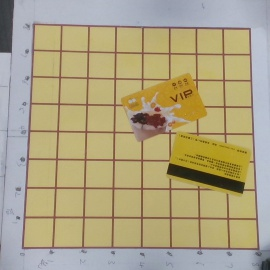card: (120, 72, 208, 144), (167, 132, 252, 199)
